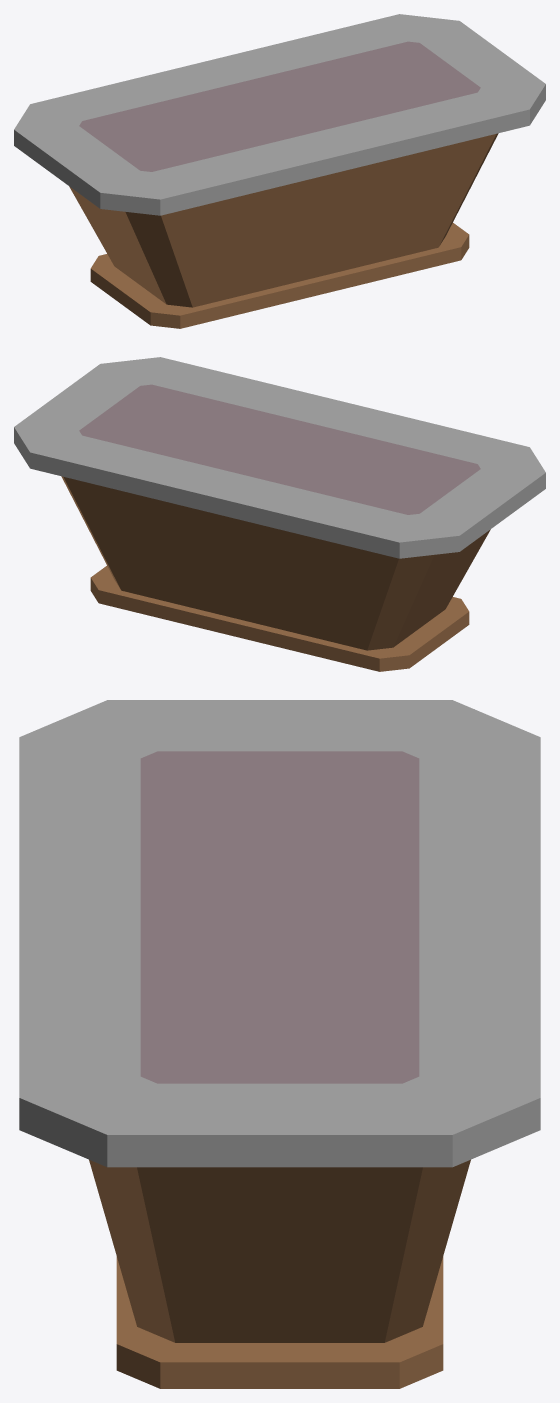
Rendered from Public Table.fbx.
3 views of the same model, one above another, from view 1: azimuth 30°, elevation 25°; view 2: azimuth 150°, elevation 25°; view 3: azimuth 270°, elevation 25° (orthographic). The views are drawn at different scales.
Visible parts, largest first — view 1: Public Table; view 2: Public Table; view 3: Public Table.
Part boxes in pixels (x1,y1,x2,y2): Public Table: (14, 14, 545, 328); Public Table: (14, 357, 545, 671); Public Table: (19, 700, 540, 1388).
Bounding box in the file's own units: 2.23 × 1.13 × 0.7542.
